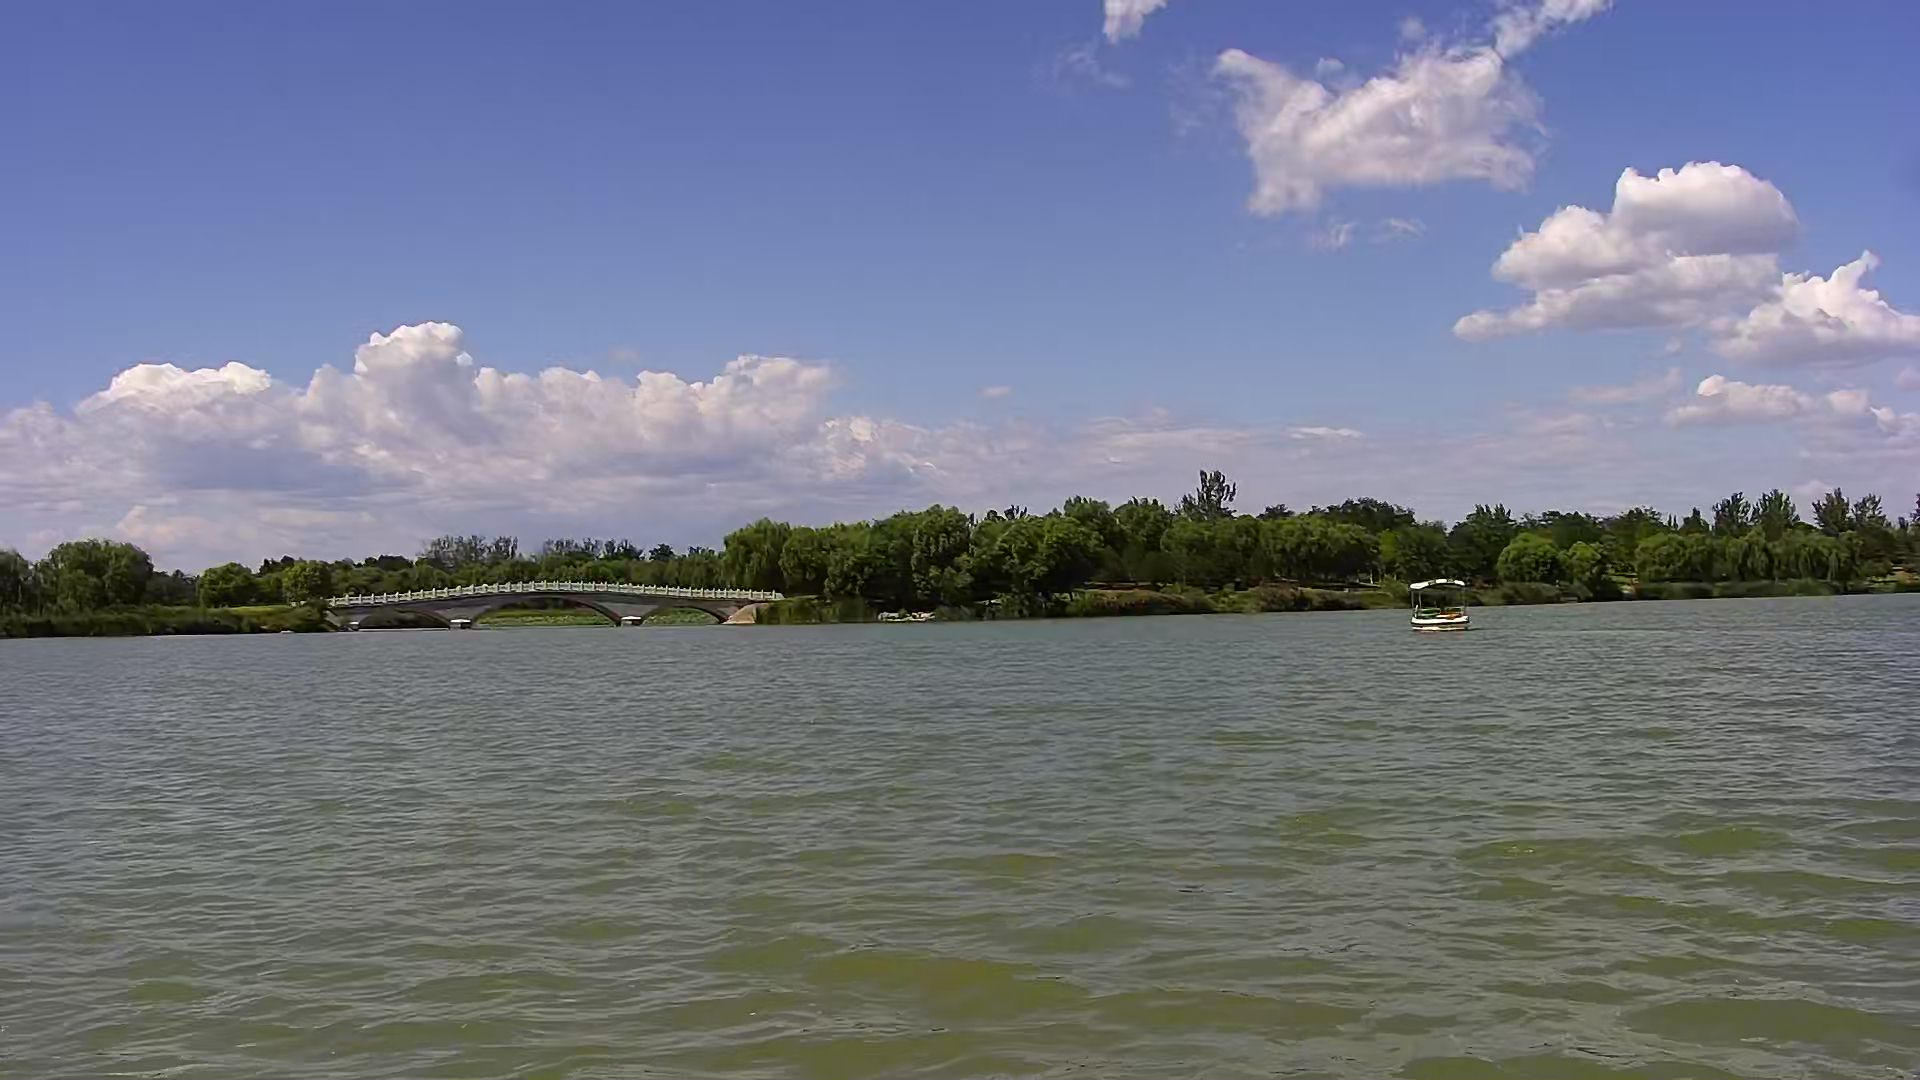boat: (1406, 578, 1470, 634)
bridge: (342, 582, 760, 632)
